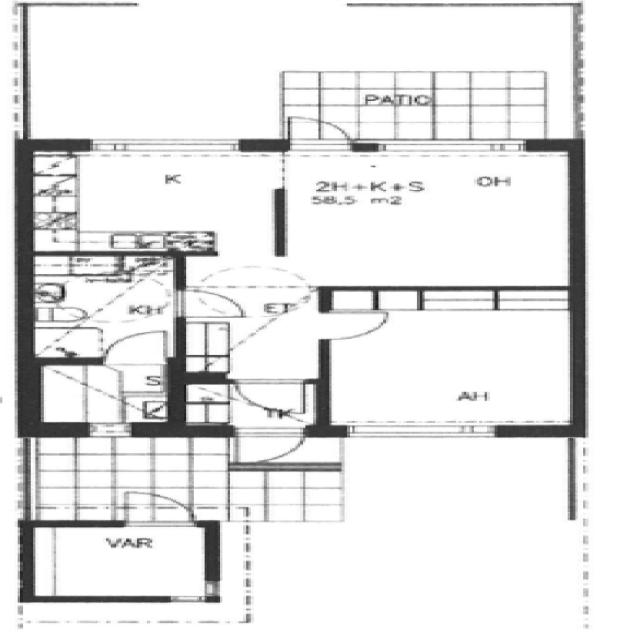door: (235, 425, 304, 467), (126, 489, 192, 526), (236, 379, 304, 414), (290, 112, 349, 150), (104, 330, 164, 364), (318, 312, 387, 338), (176, 291, 242, 316)
